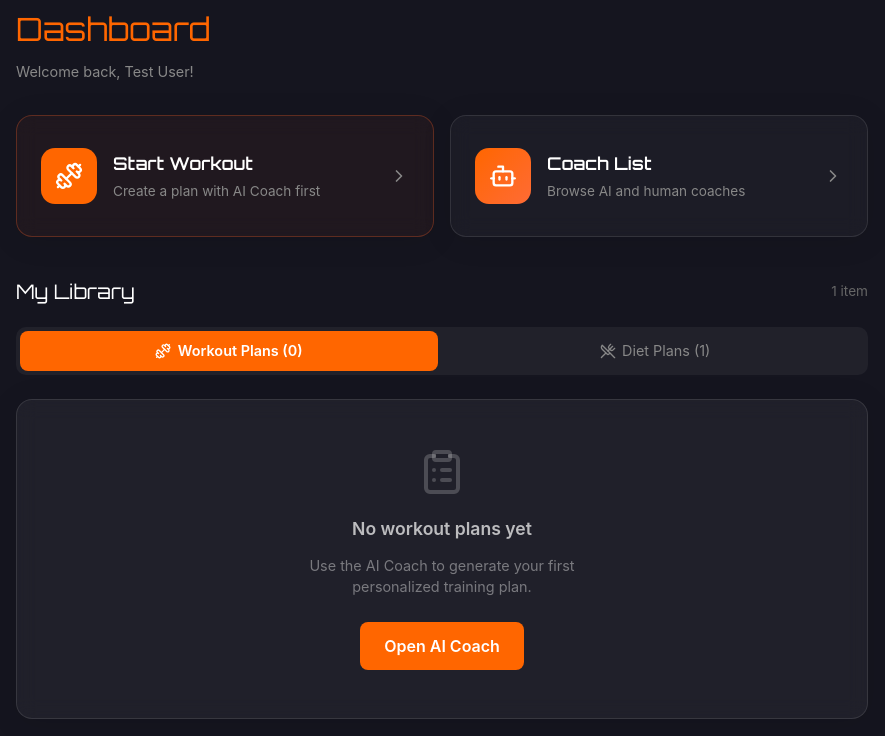
Test case: Dashboard Home Page › My Library Section › switches to nutrition plans tab
Click the button with test id "library-tab-nutrition" at [655, 351], box [446,331,864,371]
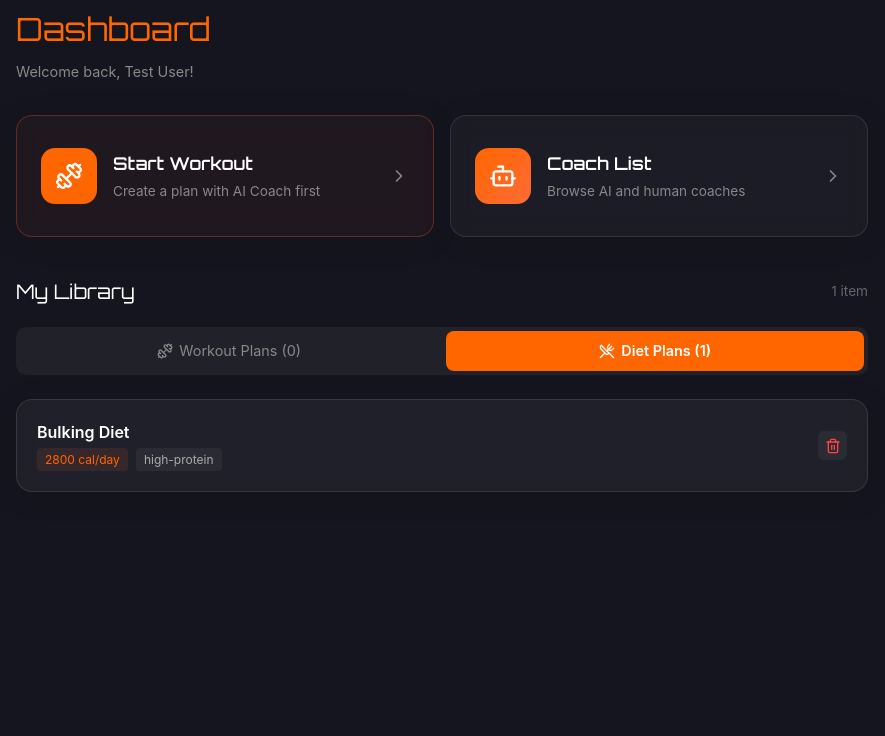
Check: the heading "Bulking Diet" is shown, box [37,422,130,442]
